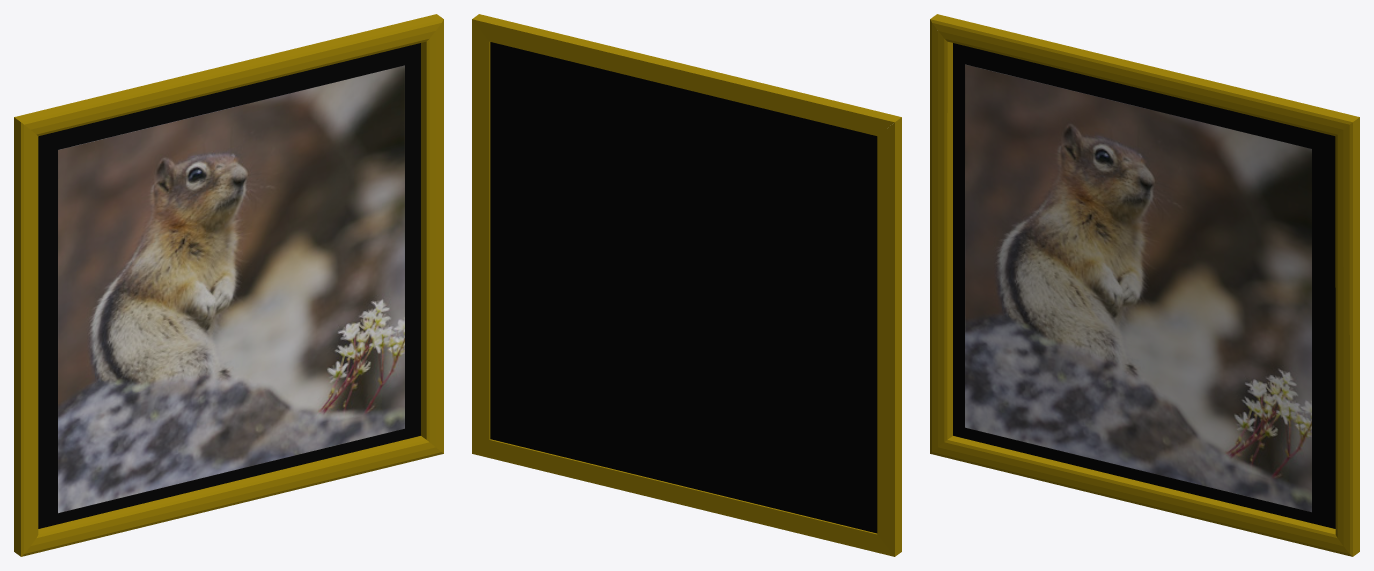
The model's file is sweethome3d-contributions-frame-squirrel-278.glb.
The picture shows the model from 3 angles, left to right: view 1: azimuth 30°, elevation 25°; view 2: azimuth 150°, elevation 25°; view 3: azimuth 330°, elevation 25°; orthographic projection.
Parts seen in each view (by area): view 1: Photo_Cube_Material_Squirrel, WoodFrame_Cylinder_Wood.001, Frame_Black_Material.011; view 2: Frame_Black_Material.011, WoodFrame_Cylinder_Wood.001; view 3: Photo_Cube_Material_Squirrel, WoodFrame_Cylinder_Wood.001, Frame_Black_Material.011.
Part boxes in pixels (x1=…): Photo_Cube_Material_Squirrel: x1=58, y1=65, x2=404, y2=513; WoodFrame_Cylinder_Wood.001: x1=14, y1=14, x2=443, y2=556; Frame_Black_Material.011: x1=38, y1=43, x2=420, y2=528; Frame_Black_Material.011: x1=490, y1=42, x2=877, y2=533; WoodFrame_Cylinder_Wood.001: x1=472, y1=14, x2=901, y2=556; Photo_Cube_Material_Squirrel: x1=965, y1=64, x2=1311, y2=512; WoodFrame_Cylinder_Wood.001: x1=930, y1=14, x2=1359, y2=556; Frame_Black_Material.011: x1=953, y1=43, x2=1335, y2=528.
Size of the model in its own units: 48.72 by 47.86 by 1.6.
3 materials, 1 textured.
